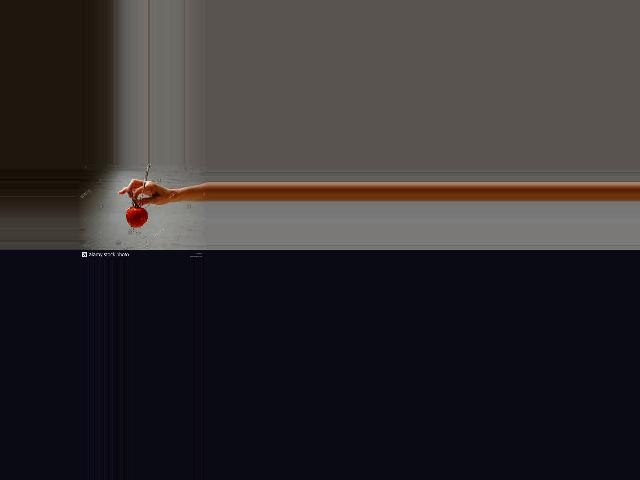tomato: (127, 207, 149, 228)
